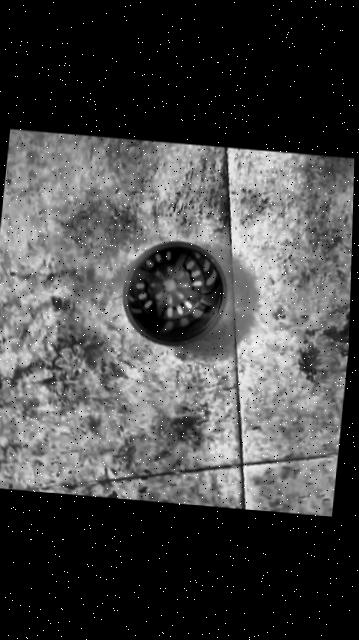pot: (118, 236, 229, 350)
